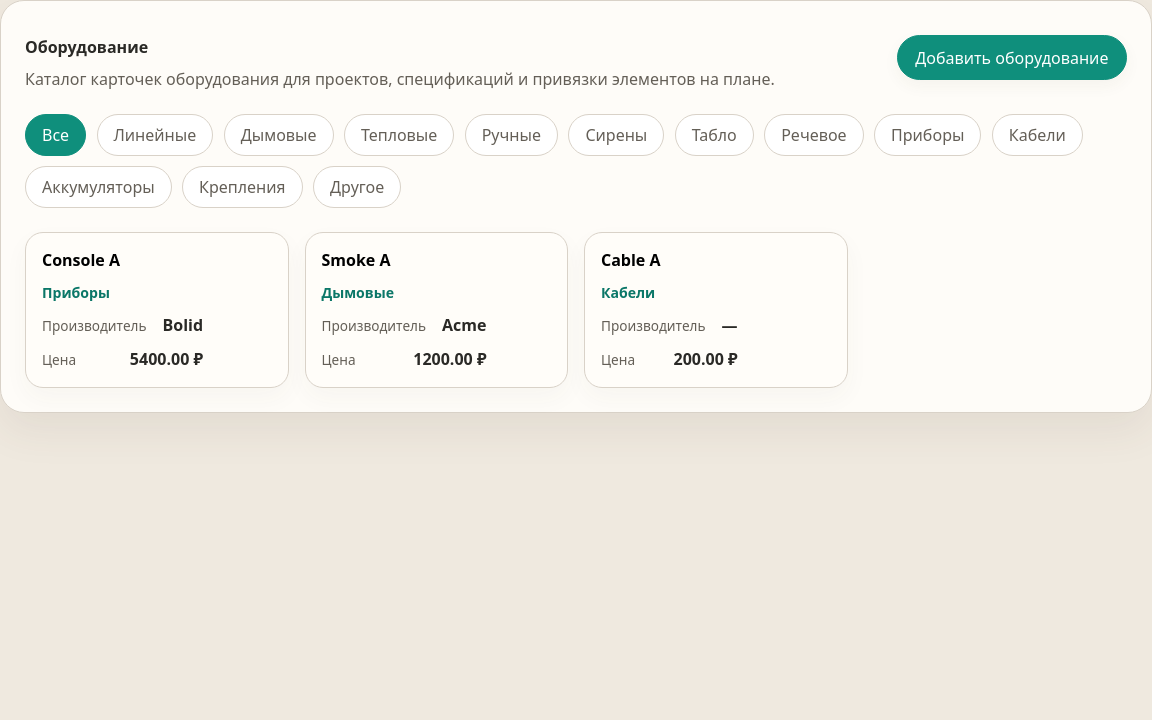
Test case: shows instrument subtype-specific values in preview modal
Expected: the heading "Оборудование" is shown, [25, 36, 148, 58]
Step 1. Click the button "Console A Приборы Производитель Bolid Цена 5400.00 ₽" → (81, 260), box [25, 232, 288, 388]
(page scrolled)
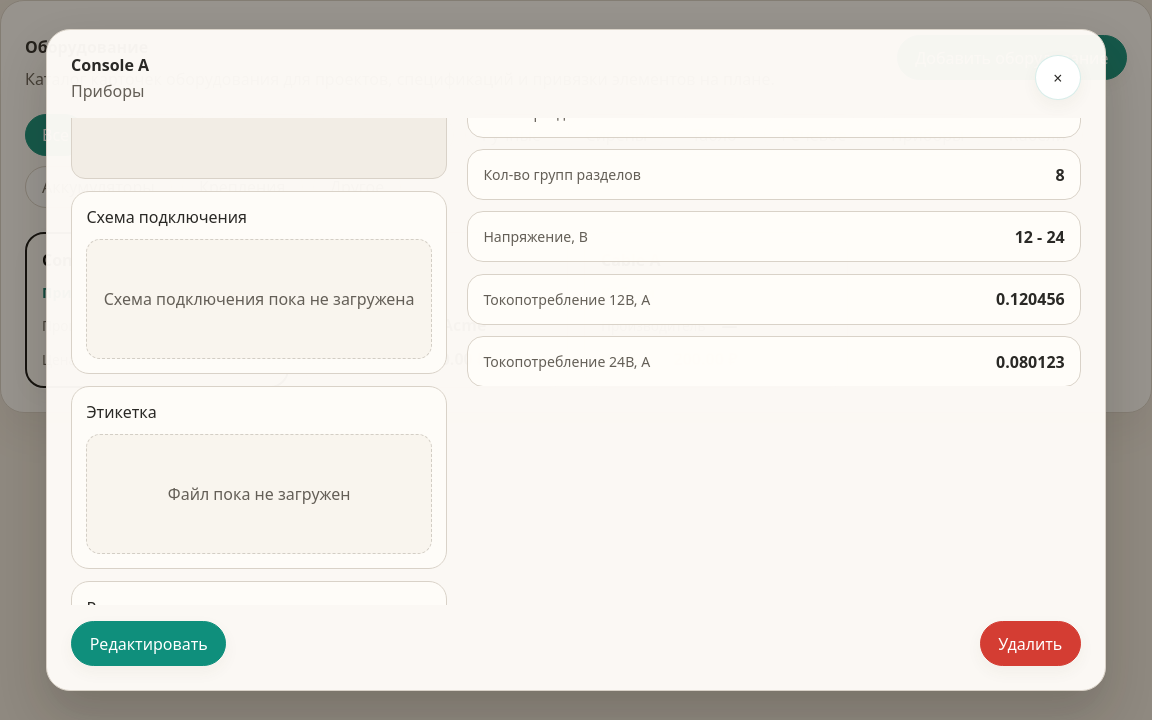
Expected: the dialog "Console A" is shown
Expected: the text "0.120456" is shown, [996, 288, 1065, 310]
Expected: the text "0.080123" is shown, [996, 351, 1065, 373]
